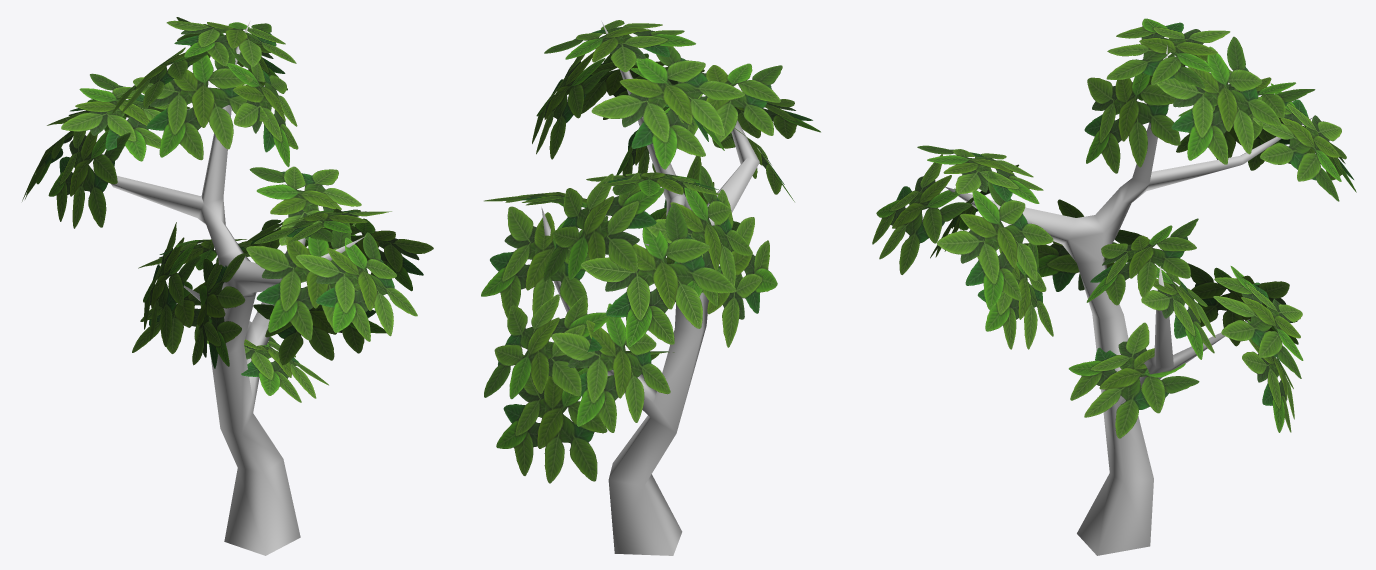
File: P_Tree05_Sapling02.fbx
The picture shows the model from 3 angles, left to right: view 1: azimuth 30°, elevation 25°; view 2: azimuth 150°, elevation 25°; view 3: azimuth 270°, elevation 25°; orthographic projection. The views are drawn at different scales.
Parts seen in each view (by area): view 1: P_Tree05_Sapling02; view 2: P_Tree05_Sapling02; view 3: P_Tree05_Sapling02.
Boxes of the visible parts, x1,y1,x2,y2 form: P_Tree05_Sapling02: (22, 17, 433, 555); P_Tree05_Sapling02: (481, 20, 820, 555); P_Tree05_Sapling02: (872, 18, 1356, 555).
Bounding box in the file's own units: 183 × 290 × 261.
